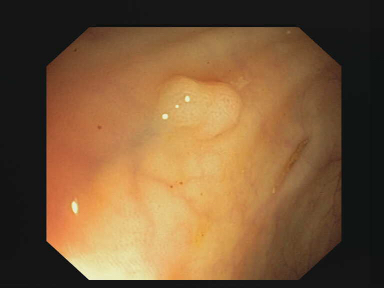polyp: (154, 75, 245, 138)
